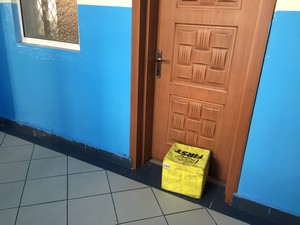cube: (159, 143, 212, 199)
